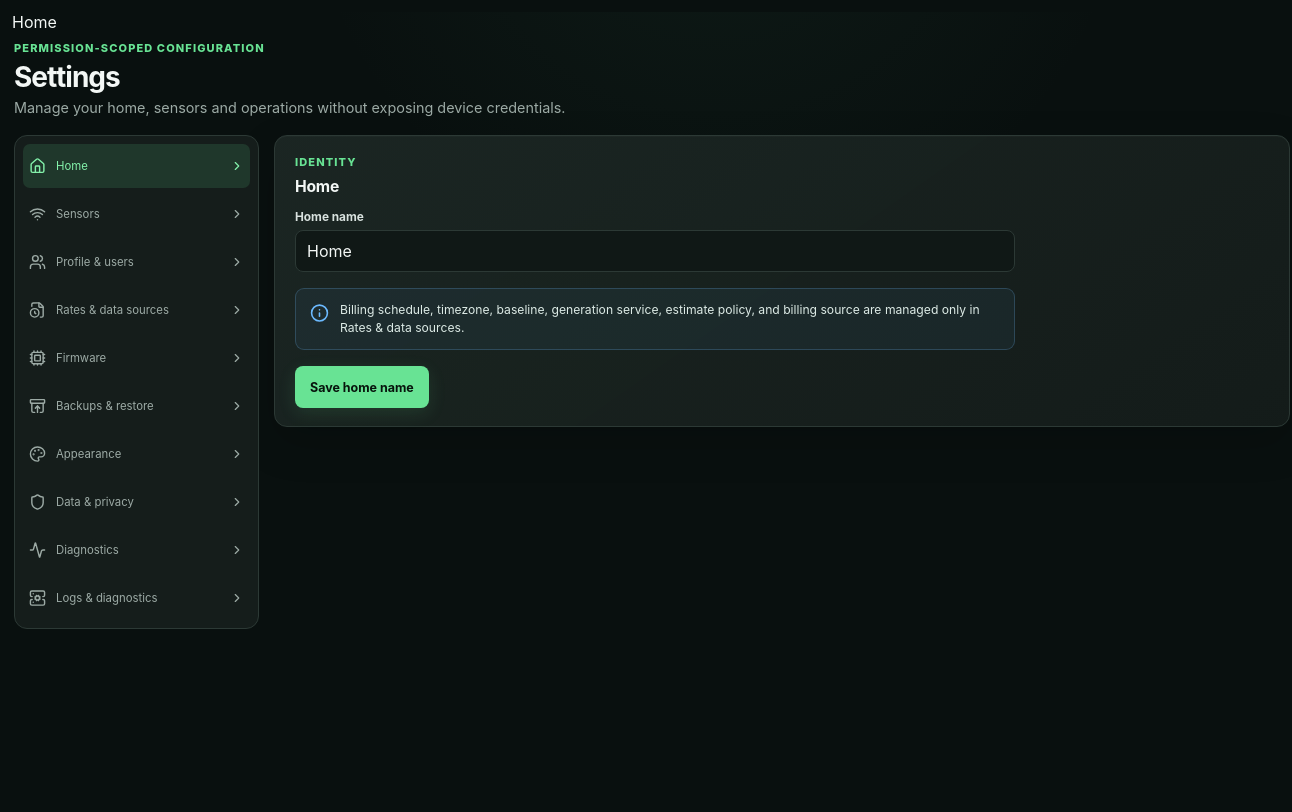
Settings › refreshes the visible home name immediately after rename without showing its UUID
Replace the text in the field labelled "Home name" with "Primary residence": (655, 251) [295,230,1015,272]
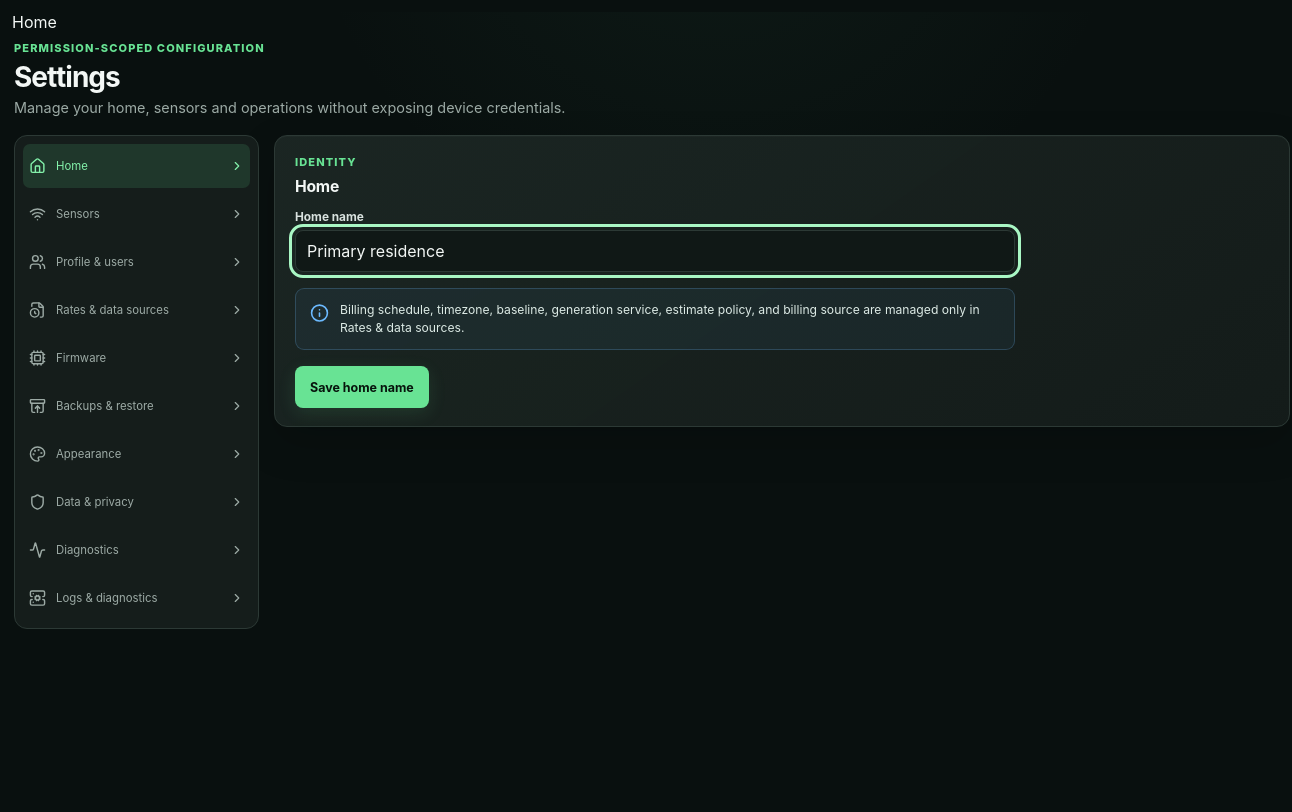
Click the button "Save home name": (362, 387) [295,366,429,408]
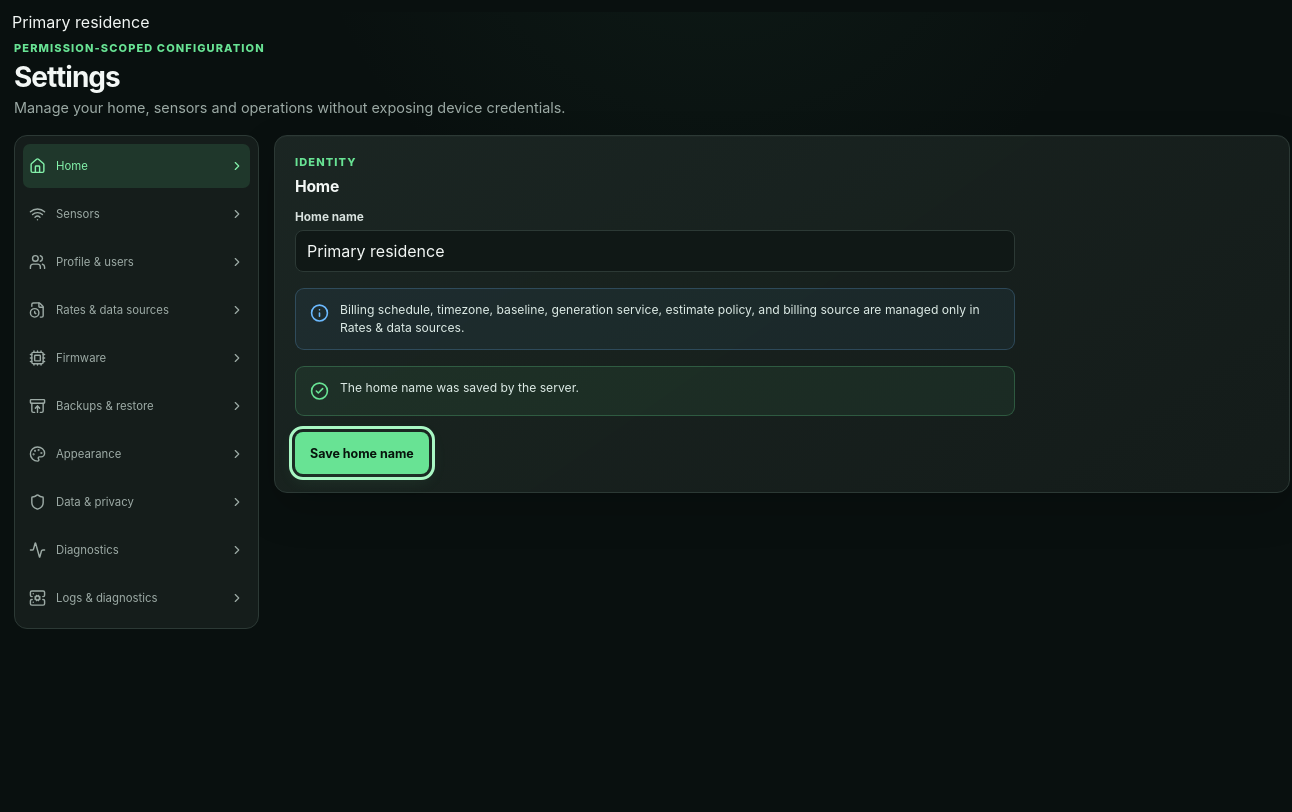
Check: the text with test id "visible-home-name" reads "Primary residence", box [12,12,150,32]
